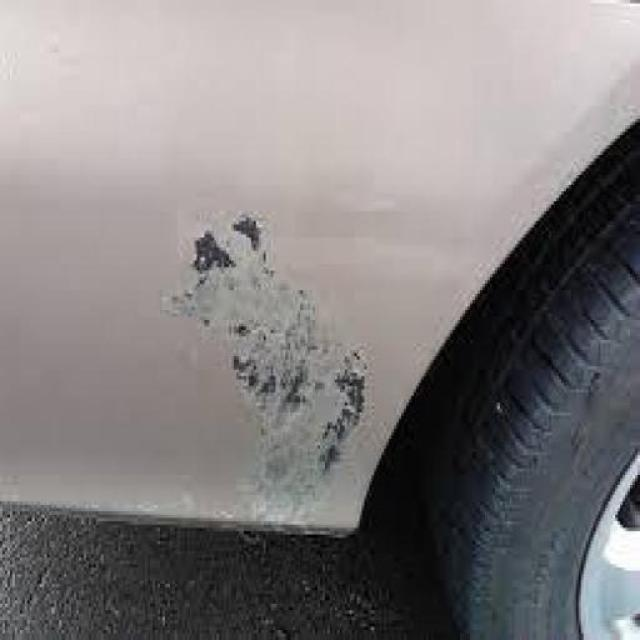scratch: (162, 195, 374, 531)
